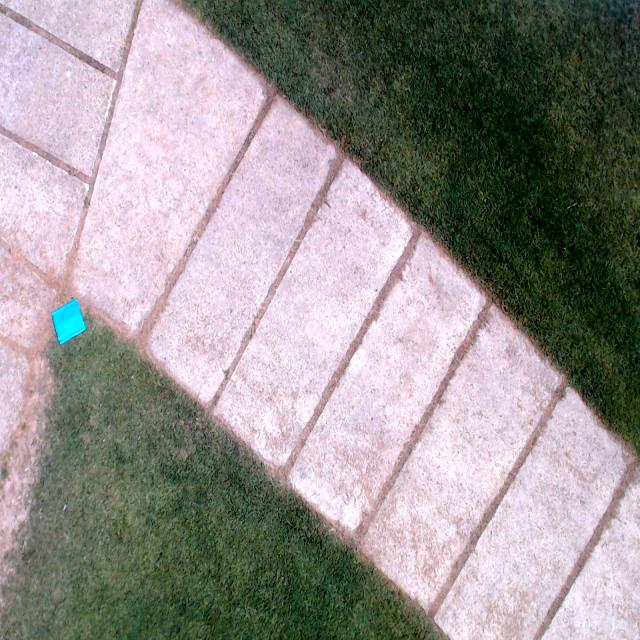blue_square: (50, 298, 87, 347)
